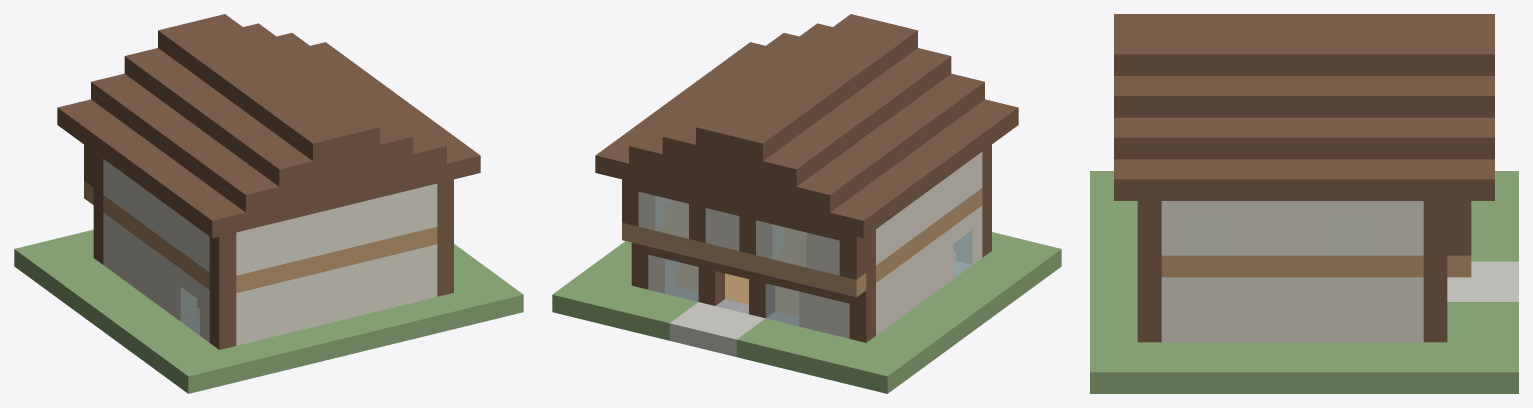
Rendered from street_house.glb.
3 views of the same model, side by side, from view 1: azimuth 30°, elevation 25°; view 2: azimuth 150°, elevation 25°; view 3: azimuth 270°, elevation 25° (orthographic). The views are drawn at different scales.
Parts seen in each view (by area): view 1: street_house_part_029, street_house_part_005, street_house_part_064, street_house_part_010, street_house_part_090, street_house_part_078, street_house_part_089, street_house_part_073, street_house_part_074, street_house_part_077, street_house_part_020, street_house_part_084 (+23 smaller); view 2: street_house_part_005, street_house_part_002, street_house_part_090, street_house_part_071, street_house_part_000, street_house_part_074, street_house_part_089, street_house_part_073, street_house_part_037, street_house_part_084, street_house_part_081, street_house_part_020 (+42 smaller); view 3: street_house_part_003, street_house_part_090, street_house_part_019, street_house_part_072, street_house_part_074, street_house_part_039, street_house_part_083, street_house_part_010, street_house_part_000, street_house_part_058, street_house_part_078, street_house_part_087 (+25 smaller).
Boxes of the visible parts, left/top/right/bottom form: street_house_part_029: left=236, top=244, right=437, bottom=345; street_house_part_005: left=43, top=258, right=238, bottom=393; street_house_part_064: left=236, top=183, right=437, bottom=275; street_house_part_010: left=220, top=293, right=473, bottom=381; street_house_part_090: left=194, top=28, right=379, bottom=156; street_house_part_078: left=296, top=110, right=446, bottom=217; street_house_part_089: left=167, top=33, right=329, bottom=160; street_house_part_073: left=67, top=110, right=228, bottom=238; street_house_part_074: left=110, top=47, right=388, bottom=169; street_house_part_077: left=187, top=144, right=295, bottom=229; street_house_part_020: left=103, top=212, right=196, bottom=321; street_house_part_084: left=134, top=55, right=254, bottom=143; street_house_part_005: left=866, top=236, right=1061, bottom=372; street_house_part_002: left=736, top=318, right=916, bottom=393; street_house_part_090: left=715, top=14, right=900, bottom=125; street_house_part_071: left=595, top=148, right=873, bottom=238; street_house_part_000: left=552, top=273, right=697, bottom=340; street_house_part_074: left=648, top=75, right=926, bottom=197; street_house_part_089: left=756, top=26, right=917, bottom=153; street_house_part_073: left=857, top=103, right=1018, bottom=230; street_house_part_037: left=622, top=222, right=866, bottom=297; street_house_part_084: left=773, top=90, right=893, bottom=179; street_house_part_081: left=629, top=139, right=839, bottom=212; street_house_part_020: left=876, top=227, right=953, bottom=335; street_house_part_003: left=1090, top=342, right=1447, bottom=393; street_house_part_090: left=1114, top=24, right=1447, bottom=75; street_house_part_019: left=1161, top=277, right=1423, bottom=342; street_house_part_072: left=1114, top=169, right=1471, bottom=200; street_house_part_074: left=1257, top=117, right=1447, bottom=159; street_house_part_039: left=1161, top=246, right=1423, bottom=277; street_house_part_083: left=1257, top=86, right=1471, bottom=117; street_house_part_010: left=1090, top=201, right=1137, bottom=342; street_house_part_000: left=1447, top=302, right=1518, bottom=393; street_house_part_058: left=1233, top=201, right=1328, bottom=255; street_house_part_078: left=1114, top=117, right=1232, bottom=159; street_house_part_087: left=1114, top=76, right=1232, bottom=117.
Bounding box in the file's own units: 20 × 12 × 18.
